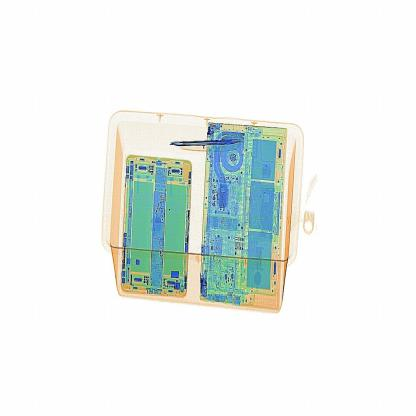pliers: (166, 136, 253, 157)
